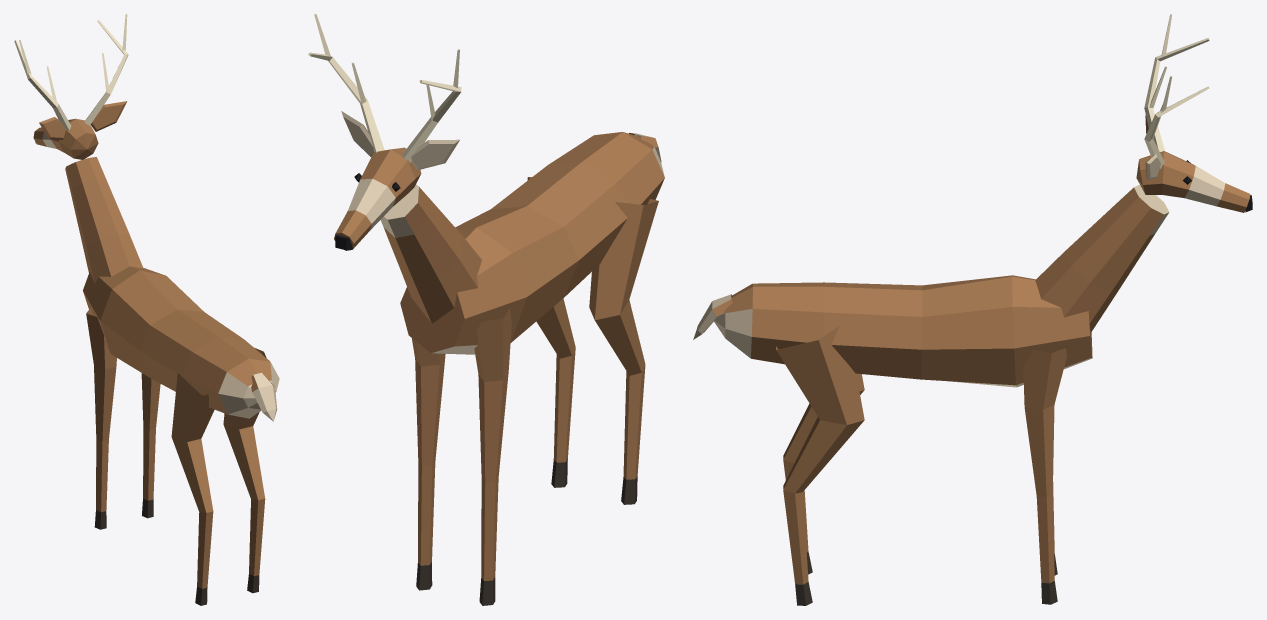
File: deer.glb
3 views of the same model, side by side, from view 1: azimuth 30°, elevation 25°; view 2: azimuth 150°, elevation 25°; view 3: azimuth 270°, elevation 25° (orthographic). The views are drawn at different scales.
Parts seen in each view (by area): view 1: deer__body, deer__head, deer__leg_rl, deer__leg_fl, deer__leg_rr, deer__leg_fr, deer__tail; view 2: deer__body, deer__head, deer__leg_rl, deer__leg_fl, deer__leg_fr, deer__leg_rr; view 3: deer__body, deer__head, deer__leg_rr, deer__leg_fr, deer__leg_rl.
Part boxes in pixels (x1,y1,x2,y2): deer__body: (83, 266, 279, 418); deer__head: (14, 14, 143, 283); deer__leg_rl: (171, 360, 214, 605); deer__leg_fl: (86, 308, 116, 529); deer__leg_rr: (223, 348, 266, 593); deer__leg_fr: (141, 373, 160, 518); deer__tail: (251, 372, 277, 421); deer__body: (400, 132, 664, 354); deer__head: (308, 14, 481, 323); deer__leg_rl: (589, 199, 658, 504); deer__leg_fl: (474, 308, 511, 605); deer__leg_fr: (412, 338, 445, 590); deer__leg_rr: (527, 177, 575, 487); deer__body: (714, 275, 1092, 387); deer__head: (1035, 14, 1252, 332); deer__leg_rr: (776, 326, 864, 605); deer__leg_fr: (1023, 348, 1066, 604); deer__leg_rl: (783, 373, 864, 574).
Bounding box in the file's own units: 0.4508 × 1.82 × 1.7.
1 material, 1 textured.
